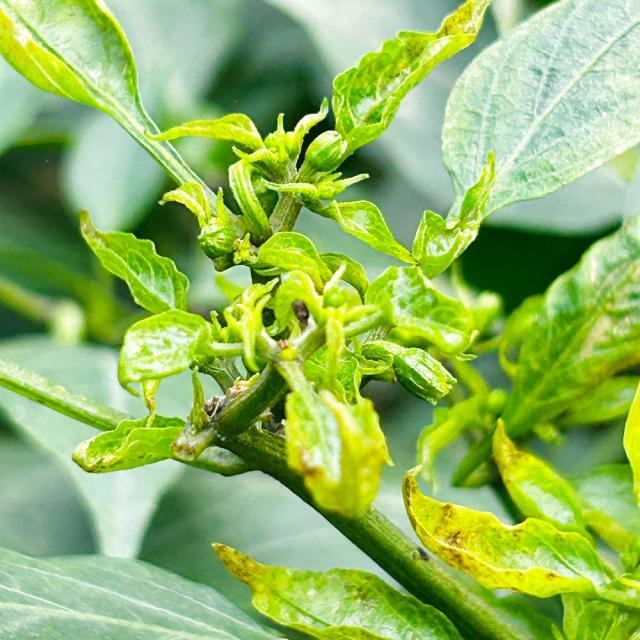Chilli_Leaf_Curl: (1, 0, 638, 639), (0, 0, 224, 216), (439, 0, 639, 227), (401, 462, 638, 638), (328, 0, 492, 163), (0, 545, 287, 638), (210, 541, 462, 639), (281, 385, 394, 520), (77, 209, 190, 314)
